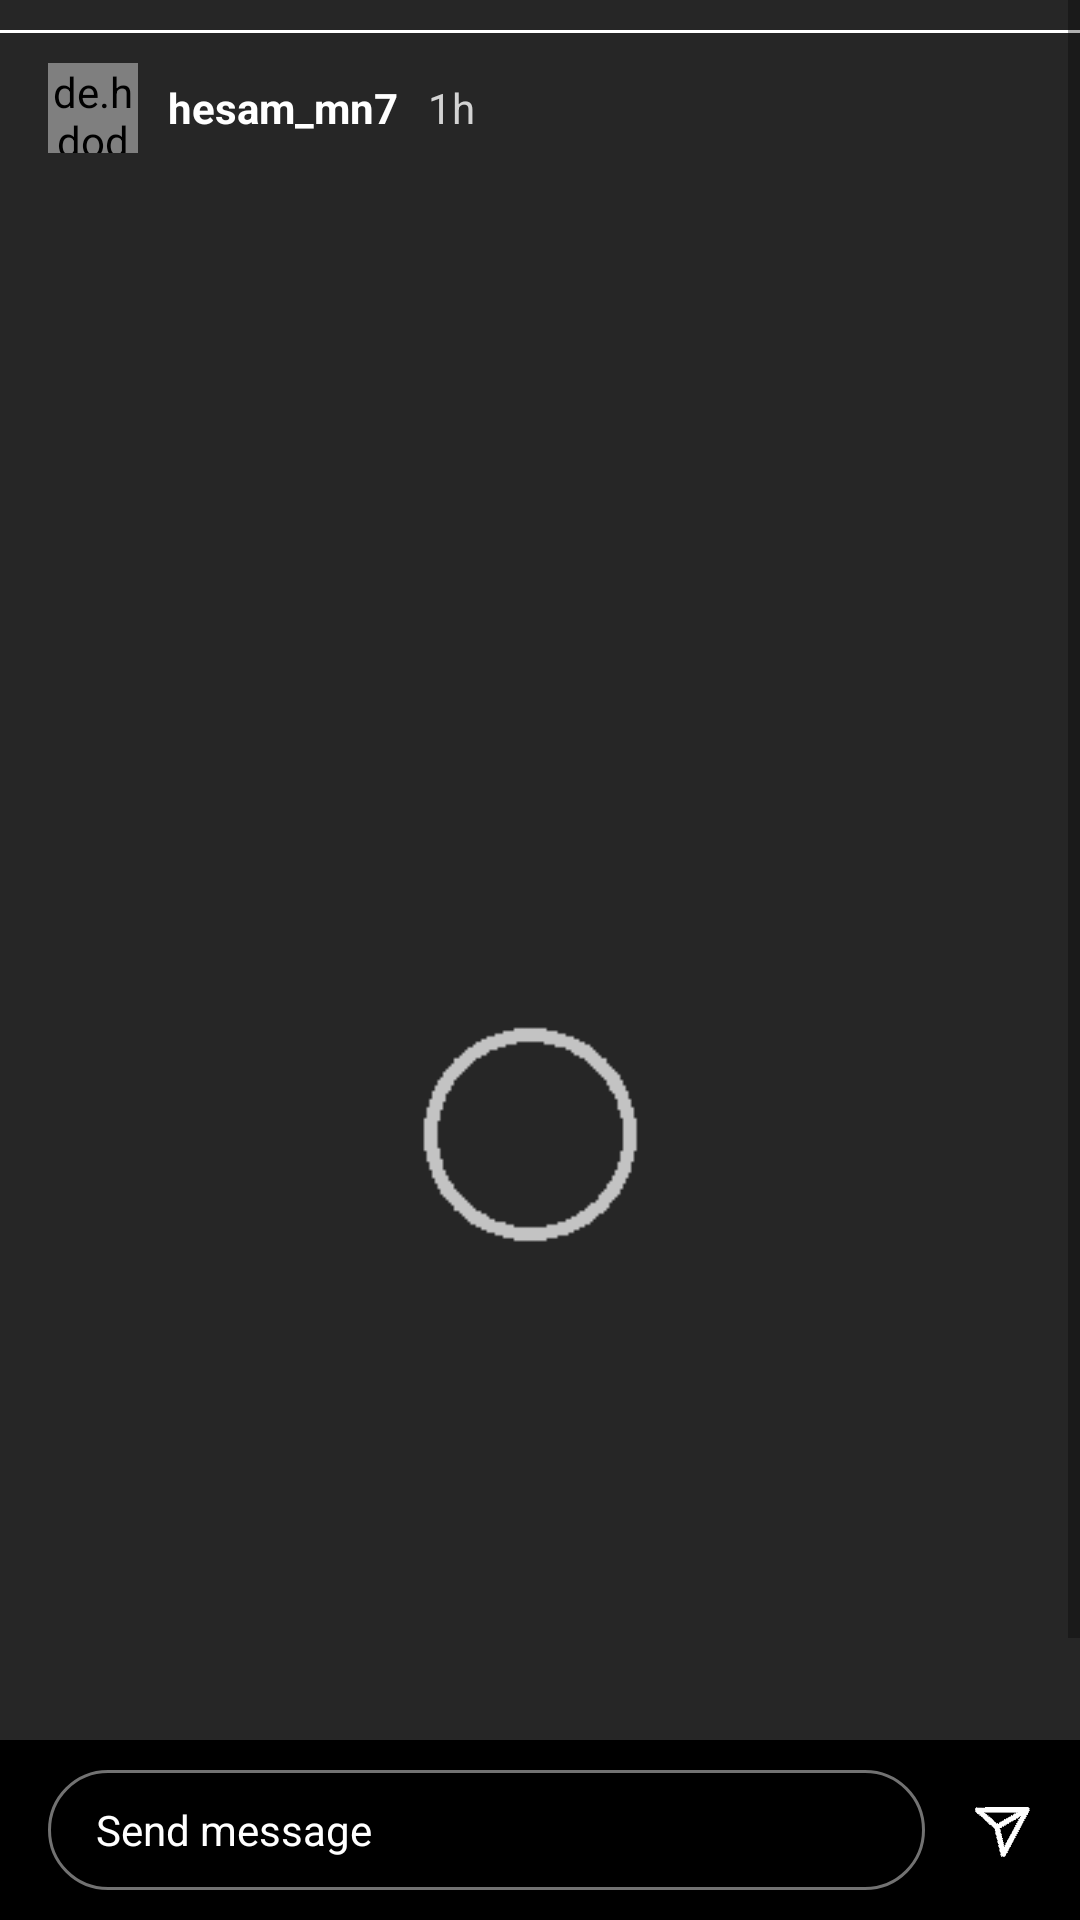

Icons on this 1080 × 1920 Android screen, each with the point to tap as (x,y):
sendinstawhite: (1002,1832)
